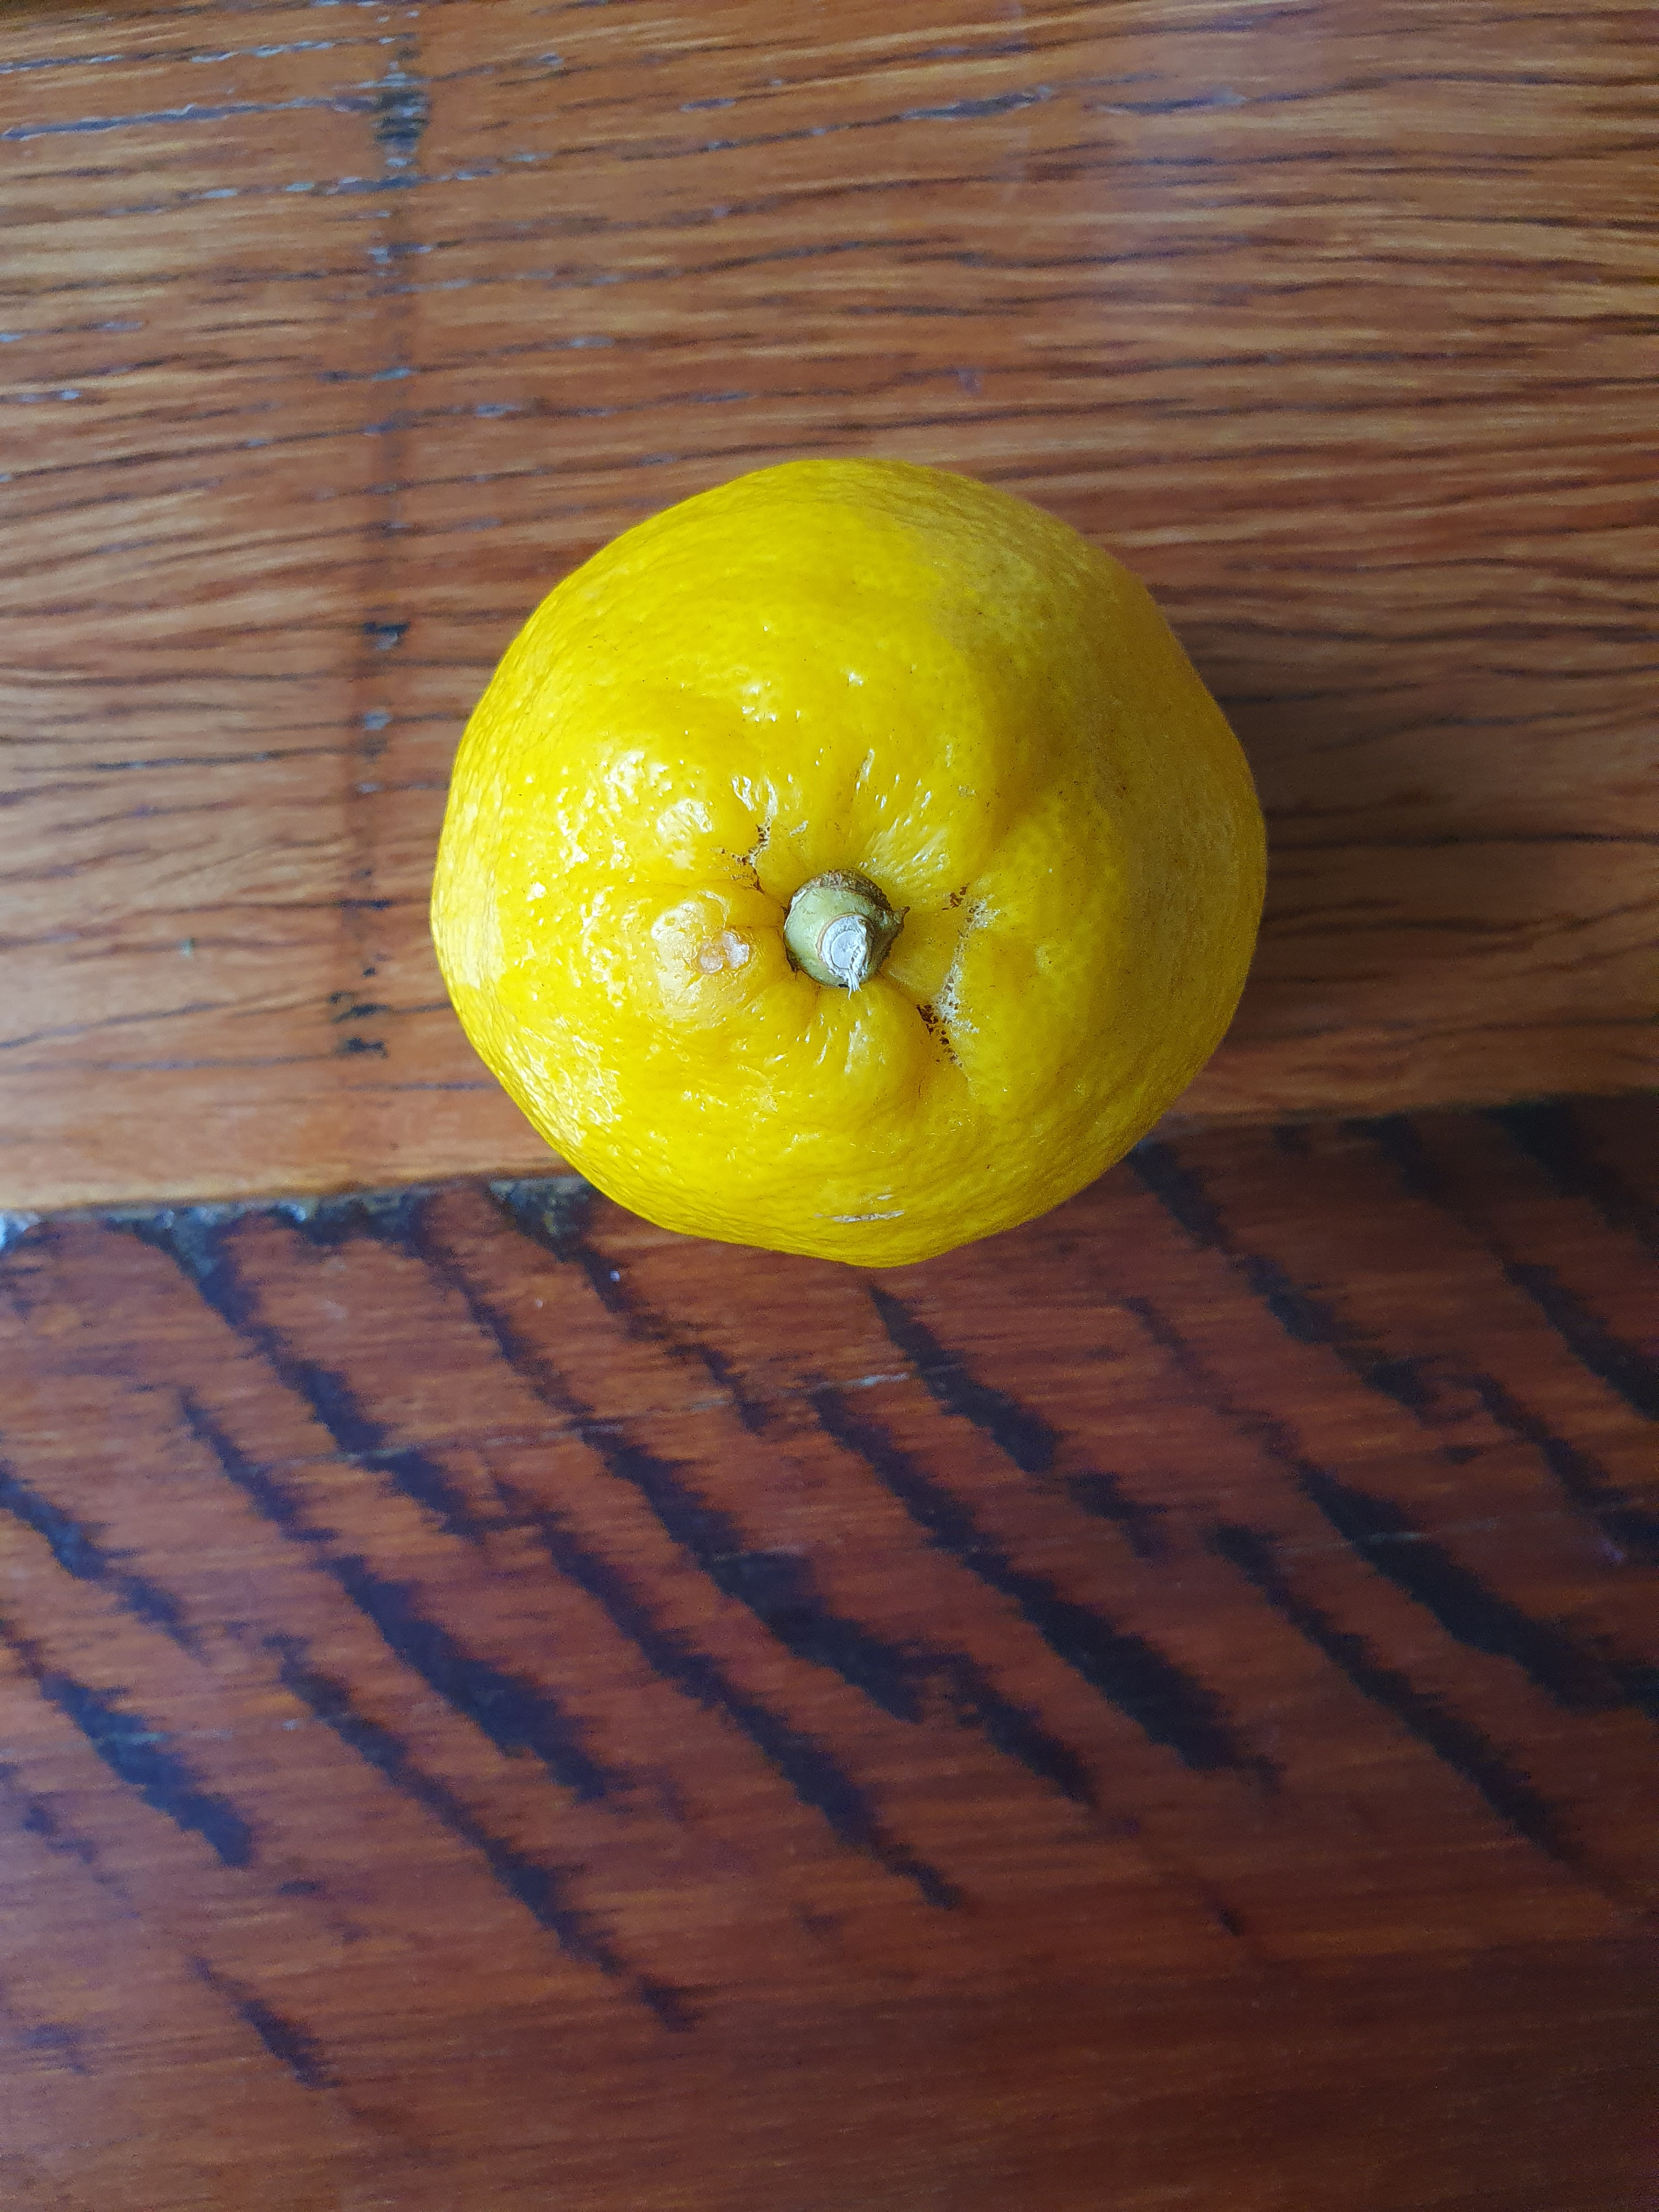lemon: (392, 409, 1319, 1301)
